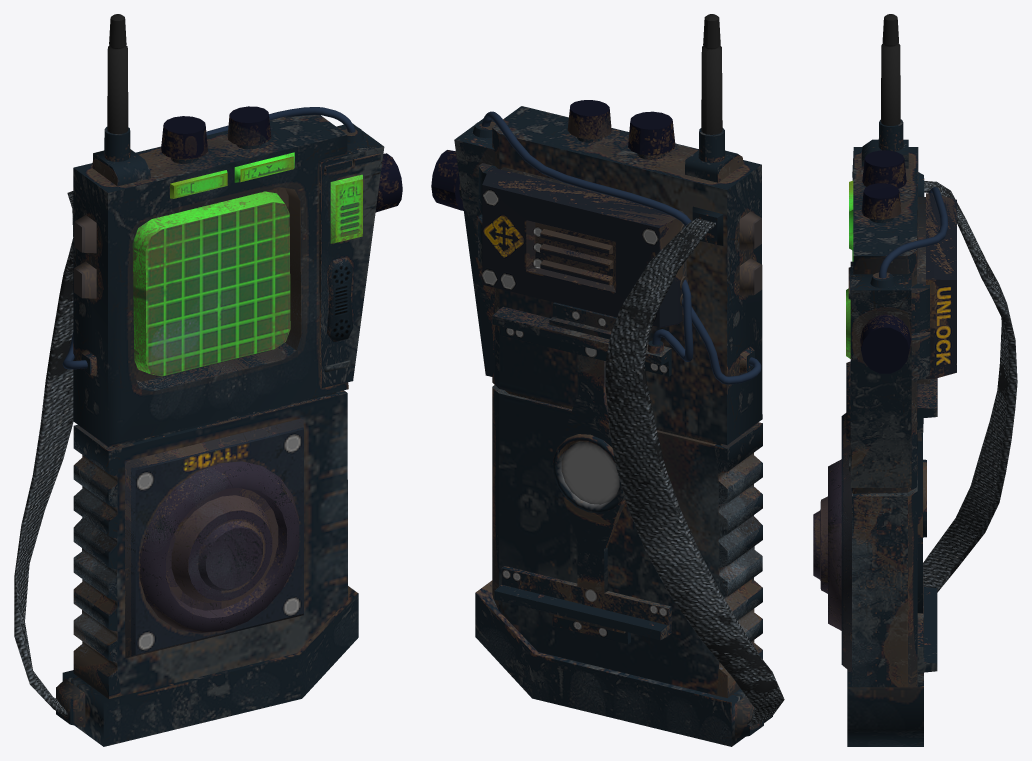
The model's file is WalkieTalkie.fbx.
3 renders of one model, left to right at view 1: azimuth 30°, elevation 25°; view 2: azimuth 150°, elevation 25°; view 3: azimuth 270°, elevation 25°, orthographic. The views are drawn at different scales.
Visible parts, largest first — view 1: Base_low; view 2: Base_low, Baterry_low; view 3: Base_low, Baterry_low.
Boxes of the visible parts, bbox=[...] form: Base_low: bbox=[14, 14, 402, 746]; Base_low: bbox=[431, 14, 784, 746]; Baterry_low: bbox=[482, 167, 682, 327]; Base_low: bbox=[813, 14, 1017, 746]; Baterry_low: bbox=[926, 193, 956, 378].
Size of the model in its own units: 193 by 370 by 104.
